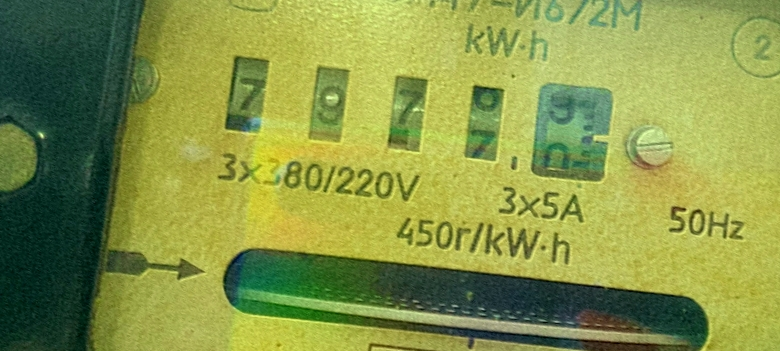0: (540, 136, 576, 177)
7: (392, 85, 427, 130), (234, 73, 268, 118), (466, 125, 499, 163)
9: (313, 81, 351, 129), (546, 89, 580, 127)
screen: (202, 31, 641, 207)
